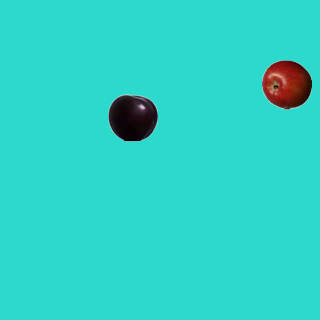Apple Braeburn: (261, 59, 311, 109)
Cherry Wax Black: (107, 92, 157, 142)
